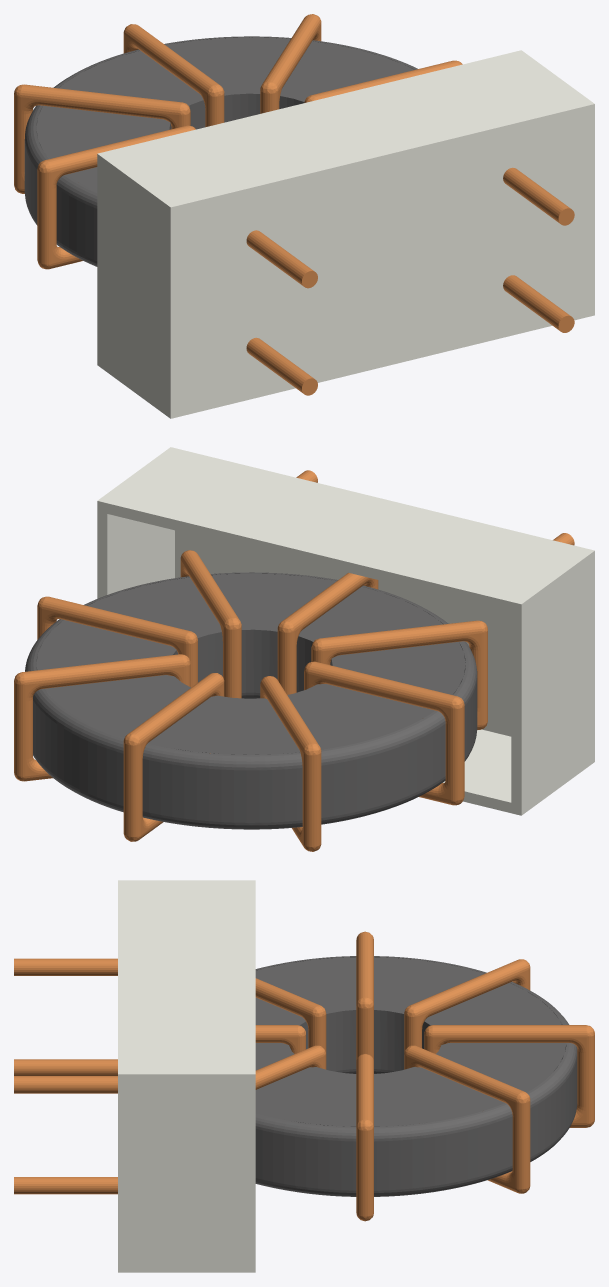
File: L_CommonMode_Toroid_Vertical_L21.0mm_W10.0mm_Px5.08mm_Py12.70mm_Murata_5100.glb
3 views of the same model, one above another, from view 1: azimuth 30°, elevation 25°; view 2: azimuth 150°, elevation 25°; view 3: azimuth 270°, elevation 25° (orthographic). The views are drawn at different scales.
Visible parts, largest first — view 1: Shape_IndexedFaceSet.015, Shape_IndexedFaceSet.001, Shape_IndexedFaceSet.002, Shape_IndexedFaceSet.014, Shape_IndexedFaceSet.161, Shape_IndexedFaceSet.177, Shape_IndexedFaceSet.068, Shape_IndexedFaceSet.169, Shape_IndexedFaceSet.009, Shape_IndexedFaceSet.122, Shape_IndexedFaceSet.201, Shape_IndexedFaceSet.317 (+15 smaller); view 2: Shape_IndexedFaceSet.001, Shape_IndexedFaceSet.002, Shape_IndexedFaceSet.013, Shape_IndexedFaceSet.207, Shape_IndexedFaceSet.122, Shape_IndexedFaceSet, Shape_IndexedFaceSet.208, Shape_IndexedFaceSet.169, Shape_IndexedFaceSet.177, Shape_IndexedFaceSet.161, Shape_IndexedFaceSet.206, Shape_IndexedFaceSet.149 (+36 smaller); view 3: Shape_IndexedFaceSet.004, Shape_IndexedFaceSet.001, Shape_IndexedFaceSet.205, Shape_IndexedFaceSet.122, Shape_IndexedFaceSet.068, Shape_IndexedFaceSet.204, Shape_IndexedFaceSet.078, Shape_IndexedFaceSet.161, Shape_IndexedFaceSet.177, Shape_IndexedFaceSet.133, Shape_IndexedFaceSet.169, Shape_IndexedFaceSet.206 (+27 smaller).
Part boxes in pixels (x1,y1,x2,y2): Shape_IndexedFaceSet.015: (180, 117, 584, 405); Shape_IndexedFaceSet.001: (97, 50, 588, 202); Shape_IndexedFaceSet.002: (97, 154, 164, 414); Shape_IndexedFaceSet.014: (170, 104, 594, 418); Shape_IndexedFaceSet.161: (165, 37, 290, 95); Shape_IndexedFaceSet.177: (36, 105, 170, 158); Shape_IndexedFaceSet.068: (280, 41, 414, 101); Shape_IndexedFaceSet.169: (59, 50, 203, 105); Shape_IndexedFaceSet.009: (165, 100, 594, 207); Shape_IndexedFaceSet.122: (24, 36, 417, 208); Shape_IndexedFaceSet.201: (56, 188, 97, 260); Shape_IndexedFaceSet.317: (20, 85, 181, 114); Shape_IndexedFaceSet.001: (97, 451, 588, 604); Shape_IndexedFaceSet.002: (521, 555, 589, 815); Shape_IndexedFaceSet.013: (175, 530, 511, 736); Shape_IndexedFaceSet.207: (142, 759, 302, 822); Shape_IndexedFaceSet.122: (25, 572, 477, 770); Shape_IndexedFaceSet: (97, 501, 521, 815); Shape_IndexedFaceSet.208: (321, 724, 445, 817); Shape_IndexedFaceSet.169: (148, 695, 299, 754); Shape_IndexedFaceSet.177: (287, 684, 434, 749); Shape_IndexedFaceSet.161: (45, 675, 190, 737); Shape_IndexedFaceSet.206: (33, 701, 123, 805); Shape_IndexedFaceSet.149: (211, 573, 336, 631); Shape_IndexedFaceSet.004: (129, 1074, 255, 1272); Shape_IndexedFaceSet.001: (129, 880, 255, 1074); Shape_IndexedFaceSet.205: (374, 1116, 512, 1190); Shape_IndexedFaceSet.122: (255, 956, 577, 1141); Shape_IndexedFaceSet.068: (374, 1067, 504, 1126); Shape_IndexedFaceSet.204: (255, 1129, 356, 1190); Shape_IndexedFaceSet.078: (255, 1067, 356, 1126); Shape_IndexedFaceSet.161: (436, 1043, 566, 1092); Shape_IndexedFaceSet.177: (374, 957, 484, 1013); Shape_IndexedFaceSet.133: (255, 957, 356, 1013); Shape_IndexedFaceSet.169: (424, 983, 561, 1025); Shape_IndexedFaceSet.206: (530, 1057, 577, 1157).
Bounding box in the file's own units: 8.27 × 3.94 × 10.45.
